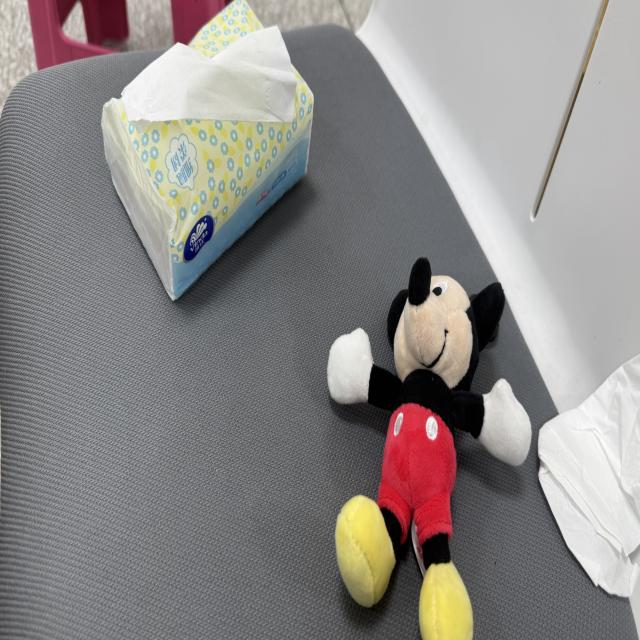mickey: (328, 259, 531, 639)
tissue: (102, 0, 313, 298), (539, 356, 639, 596), (122, 27, 296, 122)
